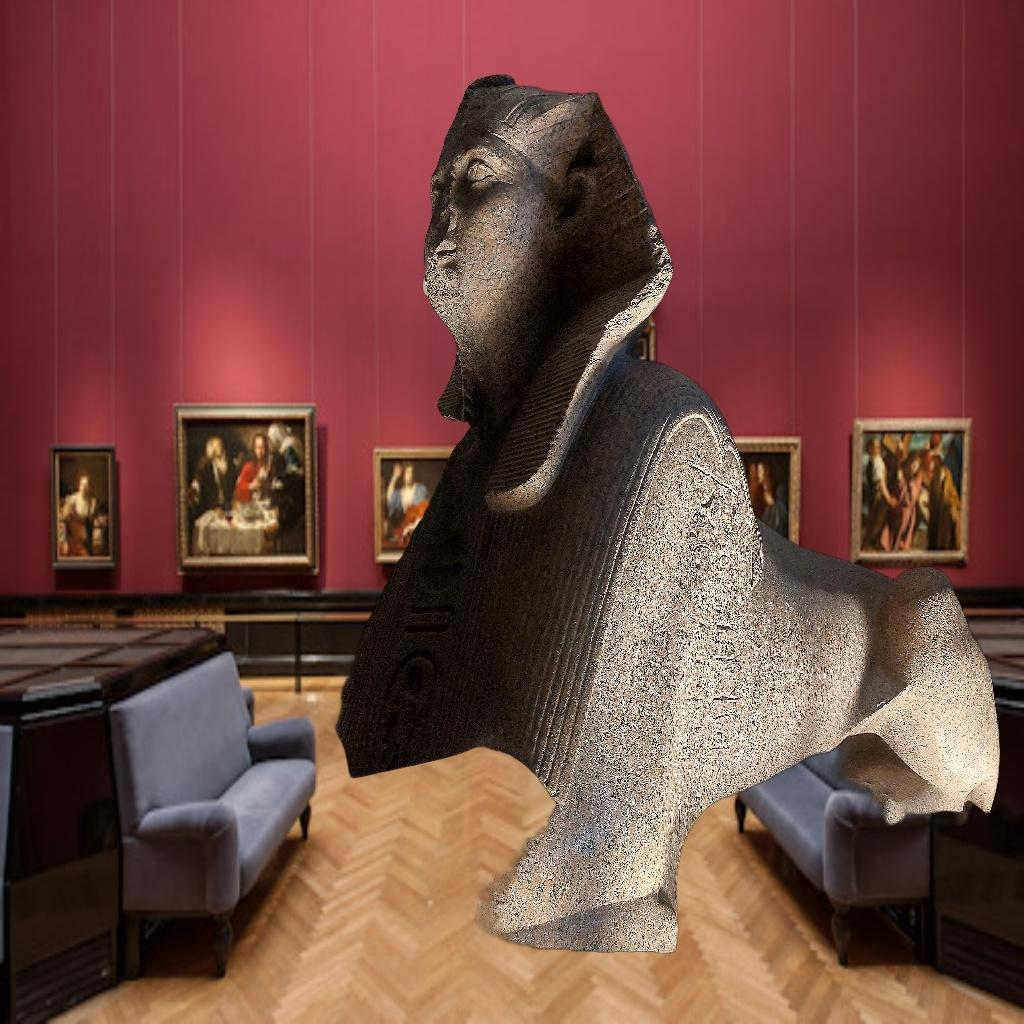Sphinx of Kings Ramesses ll - Merenptah: (4, 68, 1006, 1018)
